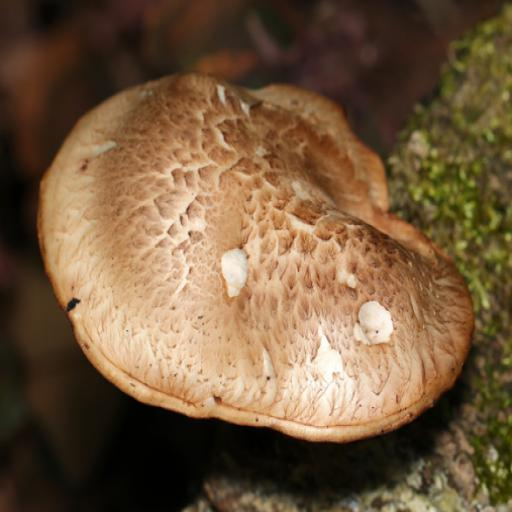Shiitake Mushroom: (35, 73, 475, 436)
